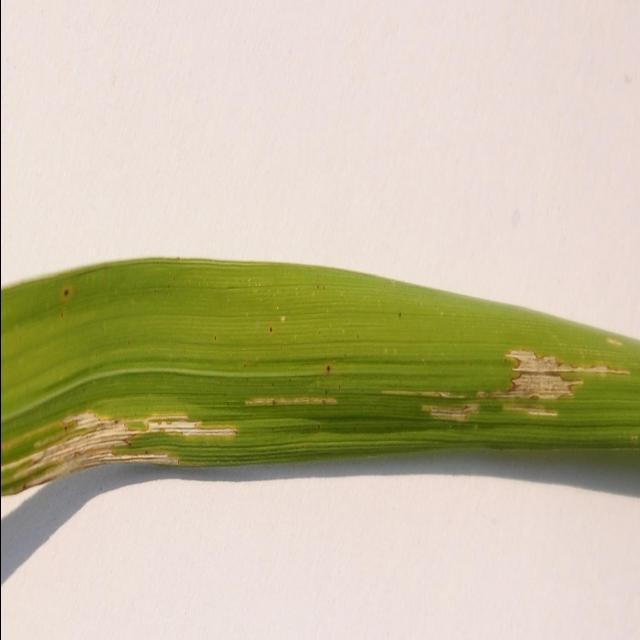Bacterial leaf blight: (0, 200, 640, 512)
